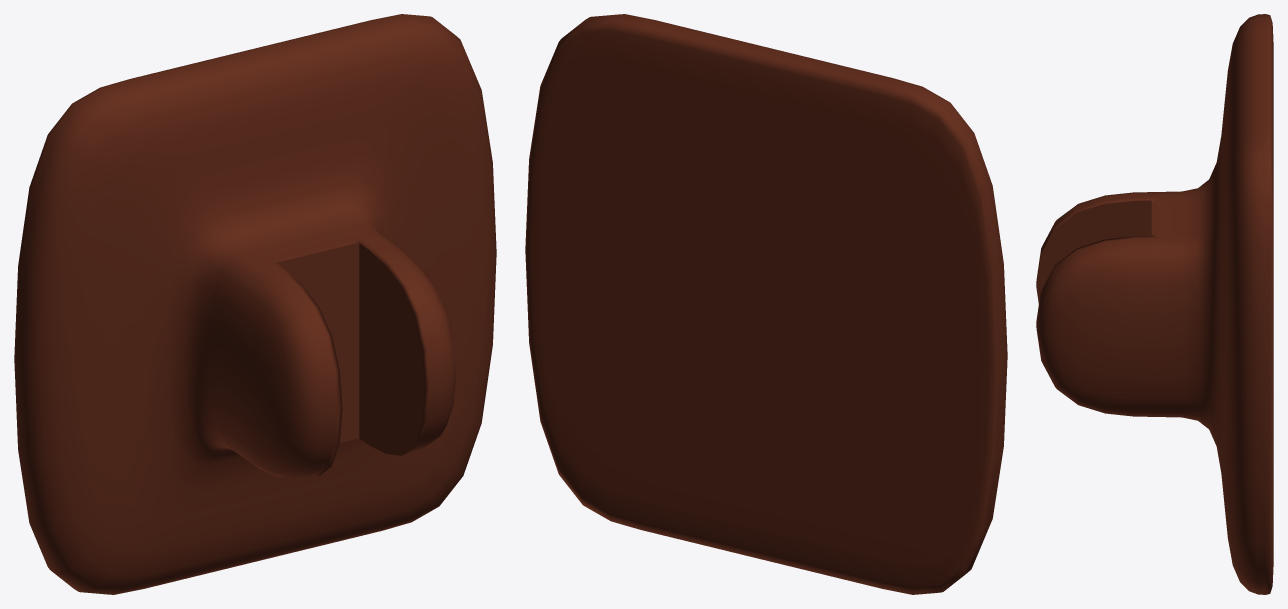
Rendered from bottom.obj.
3 renders of one model, left to right at view 1: azimuth 30°, elevation 25°; view 2: azimuth 150°, elevation 25°; view 3: azimuth 270°, elevation 25°, orthographic. The views are drawn at different scales.
Parts seen in each view (by area): view 1: Plane; view 2: Plane; view 3: Plane.
Boxes of the visible parts, box(x1,y1,x2,y2) form: Plane: box(14, 14, 496, 594); Plane: box(525, 14, 1007, 594); Plane: box(1036, 14, 1273, 594).
Bounding box in the file's own units: 0.0979 × 0.1 × 0.0483.
